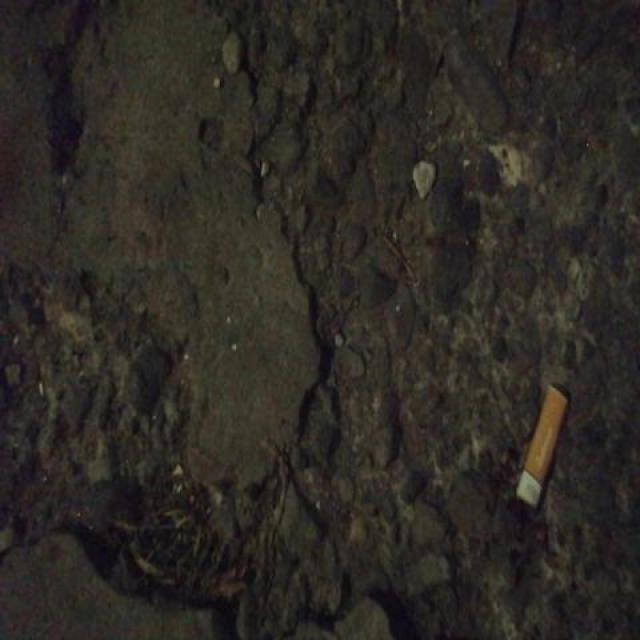non-organic waste: (506, 378, 570, 518)
